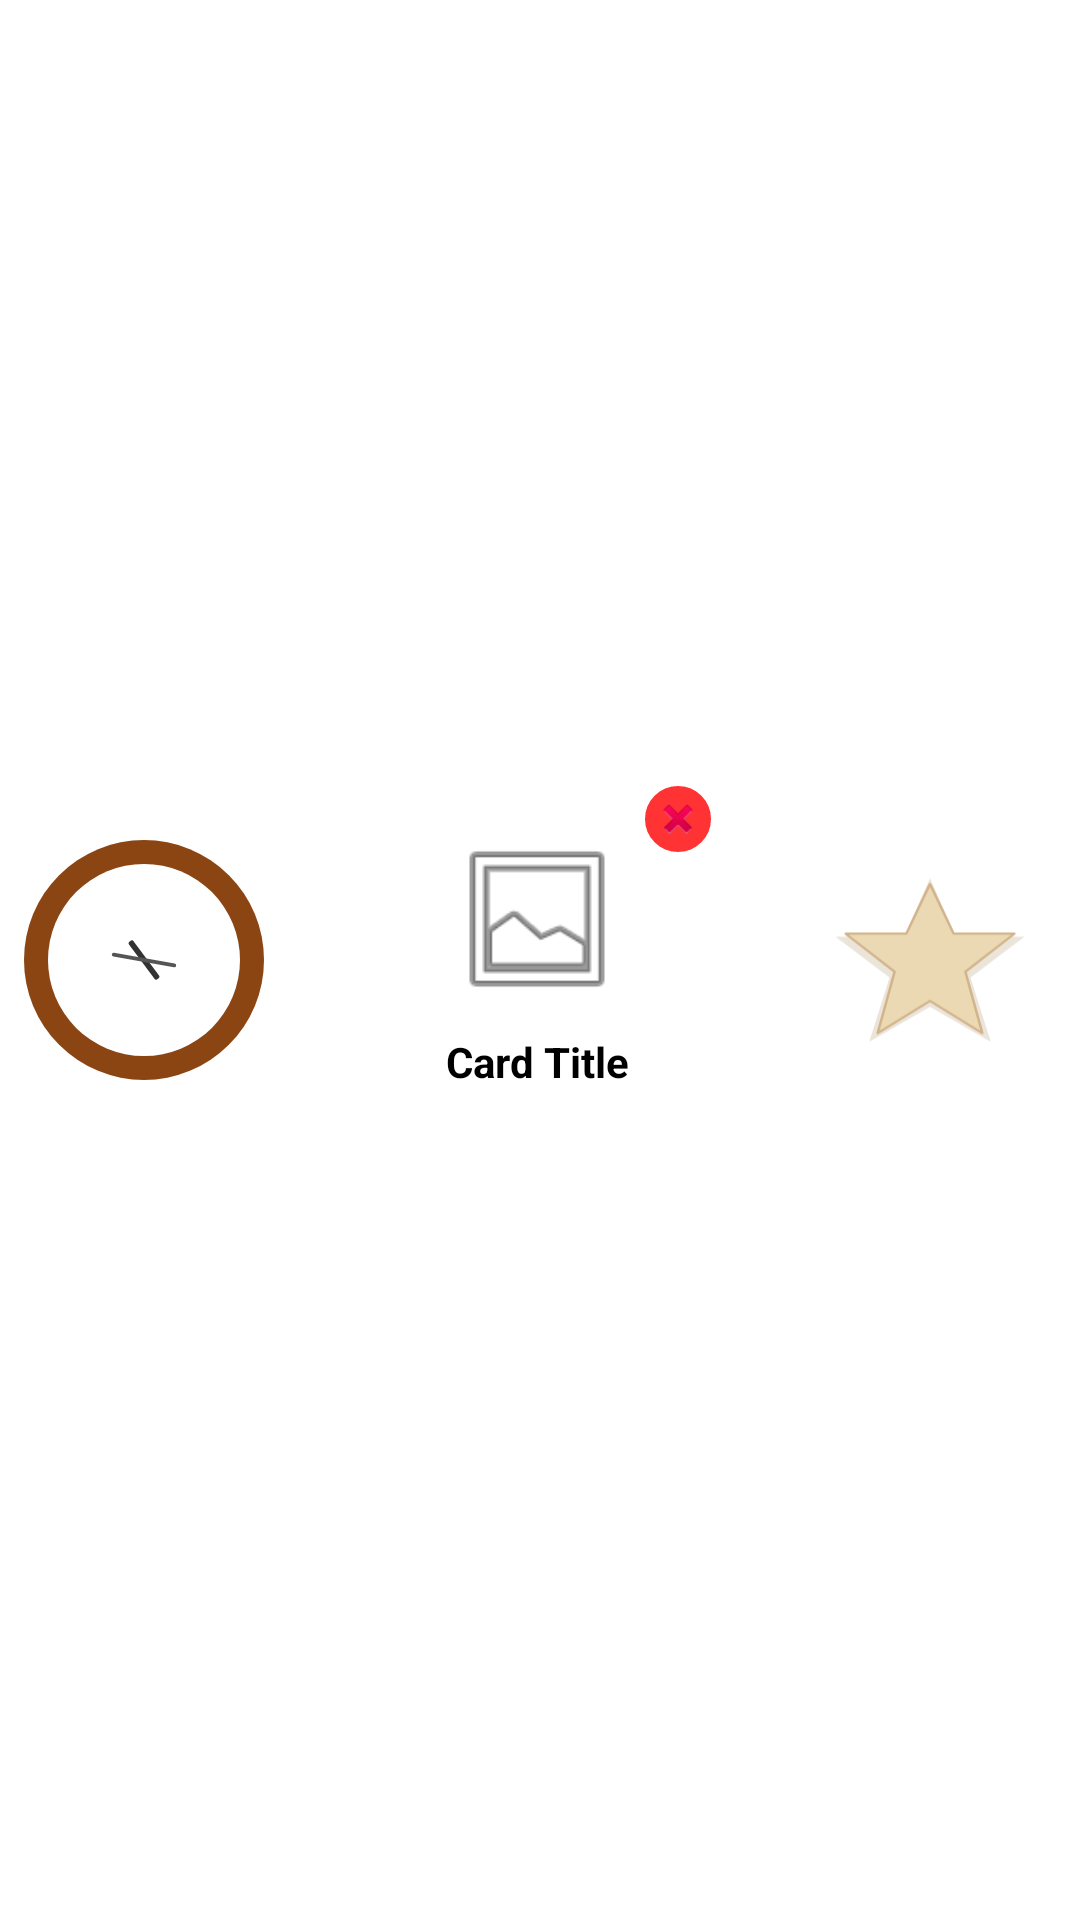

Icons on this 1080x1920 Android screen, each with its box as (x1, y1, x2, y2):
gallery: (469, 851, 605, 987)
Remove card: (645, 786, 711, 852)
Star: (837, 880, 1023, 1041)
